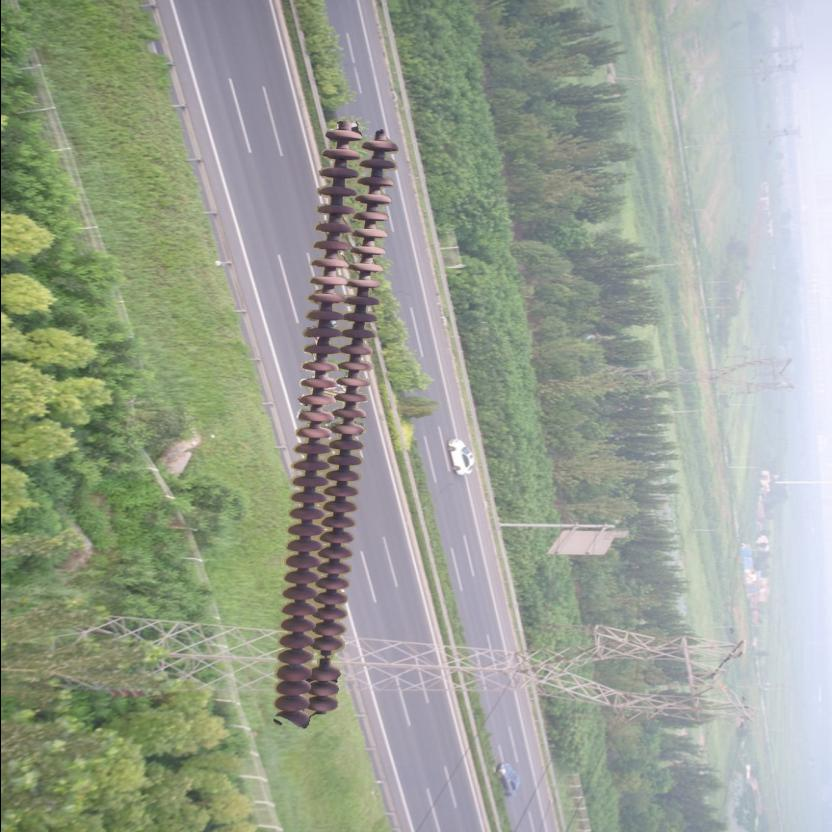defect: (307, 634, 345, 682)
